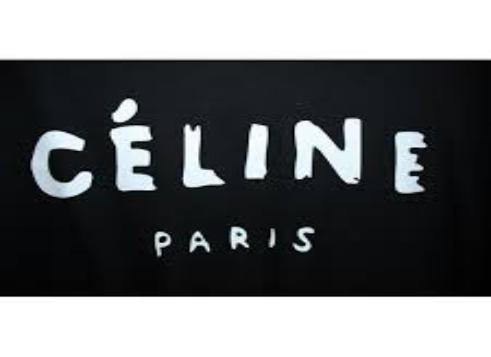CELINE: (19, 93, 432, 209)
